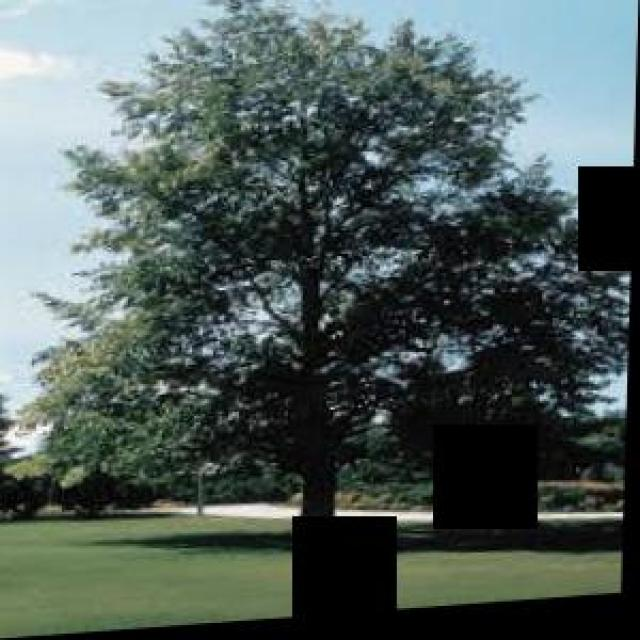tree: (16, 1, 630, 579)
